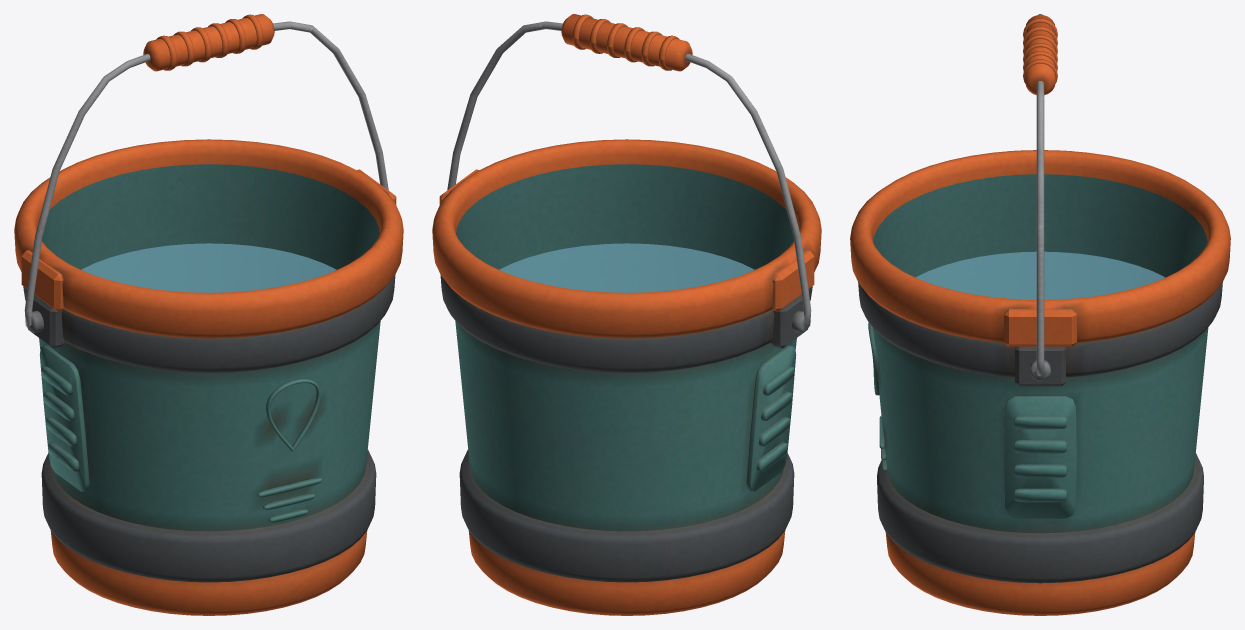
File: water_bucket_full.glb
The picture shows the model from 3 angles, left to right: view 1: azimuth 30°, elevation 25°; view 2: azimuth 150°, elevation 25°; view 3: azimuth 270°, elevation 25°; orthographic projection. The views are drawn at different scales.
Parts seen in each view (by area): view 1: water_bucket_full, water_bucket_full_water, water_bucket_full_handle; view 2: water_bucket_full, water_bucket_full_water, water_bucket_full_handle; view 3: water_bucket_full, water_bucket_full_water, water_bucket_full_handle.
Part boxes in pixels (x1,y1,x2,y2): water_bucket_full: (14, 139, 403, 615); water_bucket_full_water: (81, 243, 336, 292); water_bucket_full_handle: (24, 14, 388, 326); water_bucket_full: (432, 139, 821, 615); water_bucket_full_water: (499, 243, 754, 292); water_bucket_full_handle: (447, 14, 811, 326); water_bucket_full: (850, 150, 1230, 615); water_bucket_full_water: (915, 251, 1165, 299); water_bucket_full_handle: (1023, 14, 1057, 376).
Size of the model in its own units: 0.3409 by 0.4682 by 0.313.
2 materials, 1 textured.
